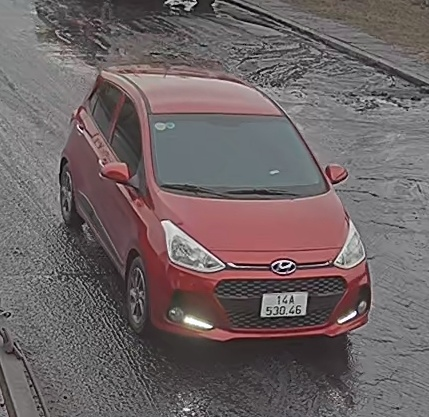vehicle plate: (256, 288, 309, 320)
